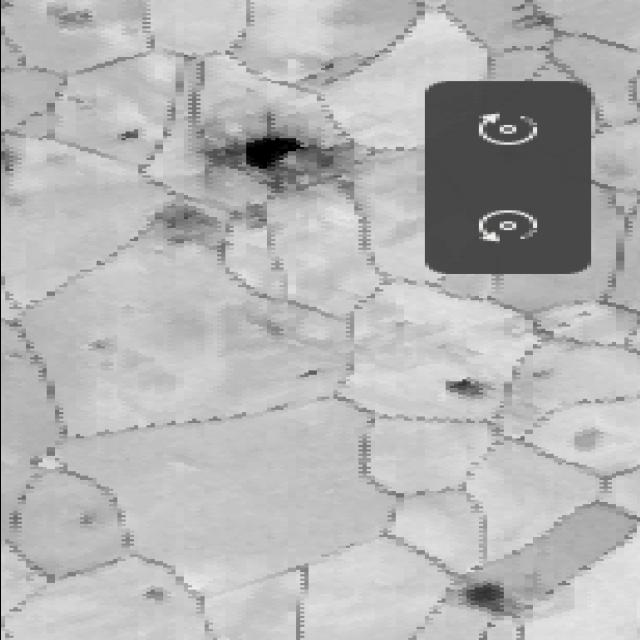good_void: (144, 196, 288, 254), (228, 134, 322, 180), (456, 580, 510, 619), (441, 373, 494, 400), (566, 426, 611, 455), (44, 11, 98, 31), (135, 579, 172, 607), (83, 336, 118, 361), (506, 13, 551, 31), (69, 507, 97, 535), (106, 127, 145, 142), (526, 366, 557, 384), (288, 366, 329, 379), (0, 146, 15, 173), (570, 310, 593, 320), (554, 322, 573, 329)
